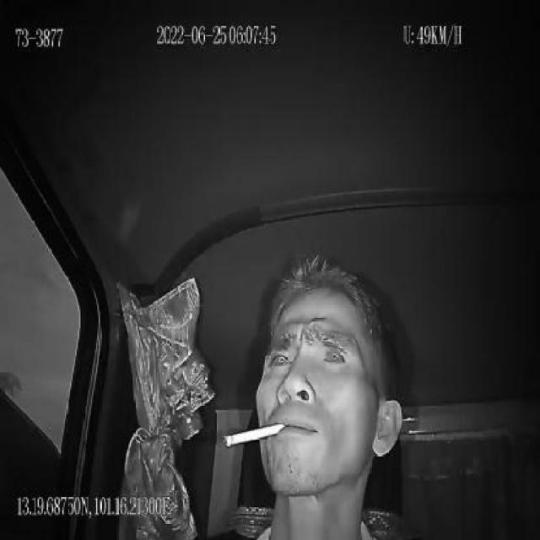smoking: (224, 420, 286, 451)
